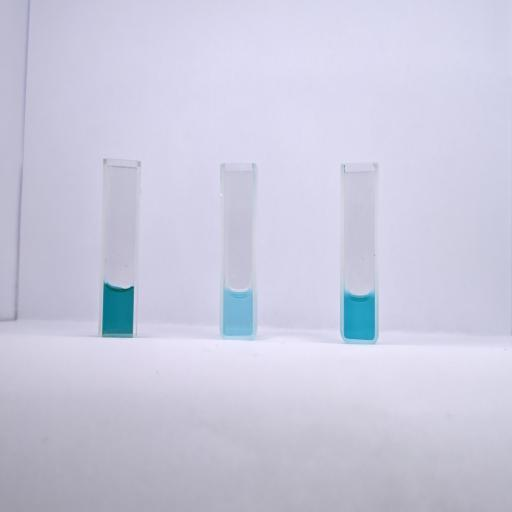cuvette: (97, 156, 142, 337), (338, 161, 380, 344), (219, 161, 258, 339)
liquid: (103, 284, 134, 334), (344, 290, 375, 339), (223, 287, 253, 334)
